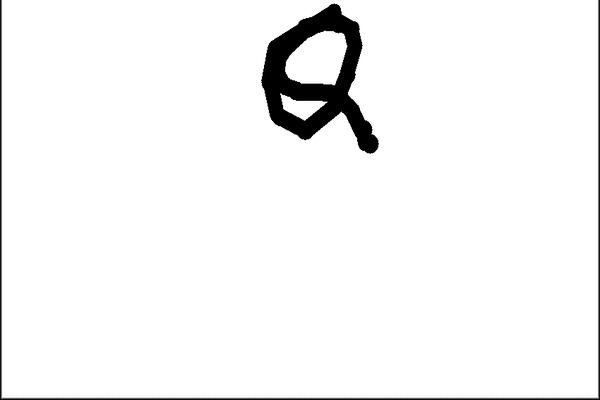Q: (254, 1, 376, 152)
